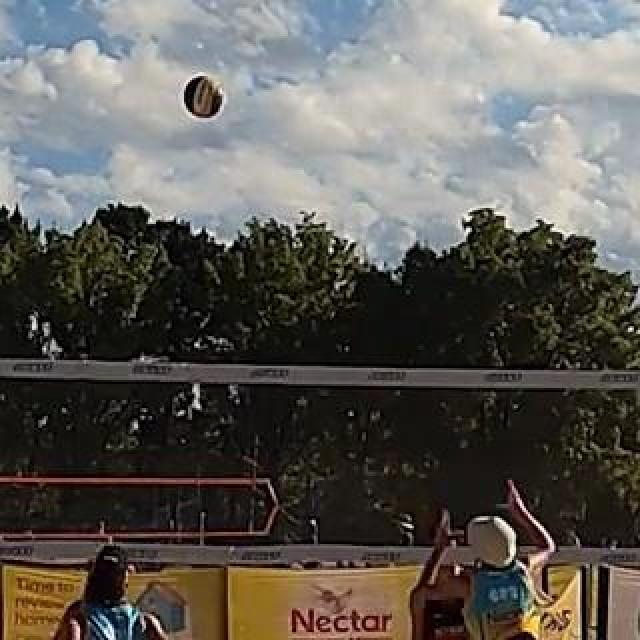volleyball: (182, 74, 226, 118)
